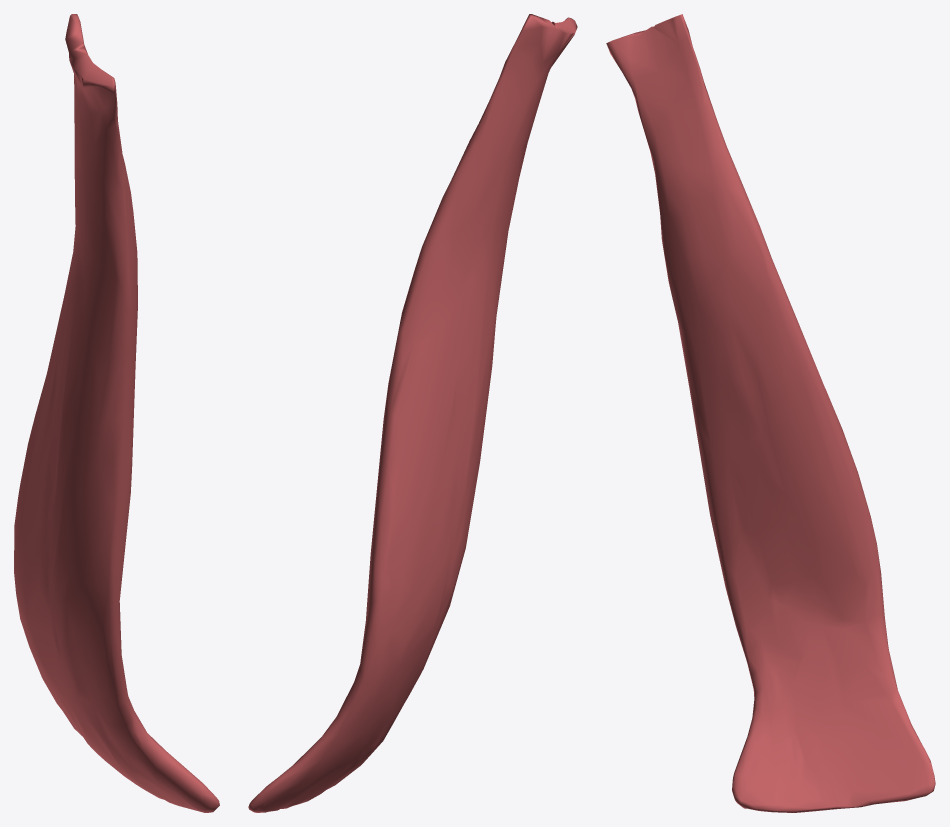
The picture shows the model from 3 angles, left to right: view 1: azimuth 30°, elevation 25°; view 2: azimuth 150°, elevation 25°; view 3: azimuth 270°, elevation 25°; orthographic projection. The views are drawn at different scales.
Parts seen in each view (by area): view 1: 左侧内直肌; view 2: 左侧内直肌; view 3: 左侧内直肌.
Boxes of the visible parts, box(x1,y1,x2,y2) form: 左侧内直肌: box(14, 14, 219, 812); 左侧内直肌: box(248, 14, 577, 812); 左侧内直肌: box(606, 14, 935, 812).
Size of the model in its own units: 0.0147 by 0.0595 by 0.0244.
